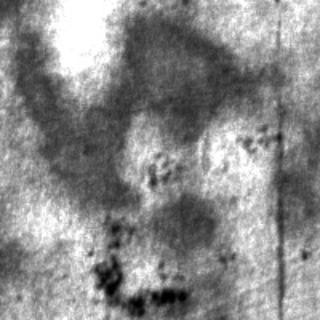inclusion: (86, 236, 184, 310)
patches: (8, 8, 260, 208), (144, 191, 226, 317)
